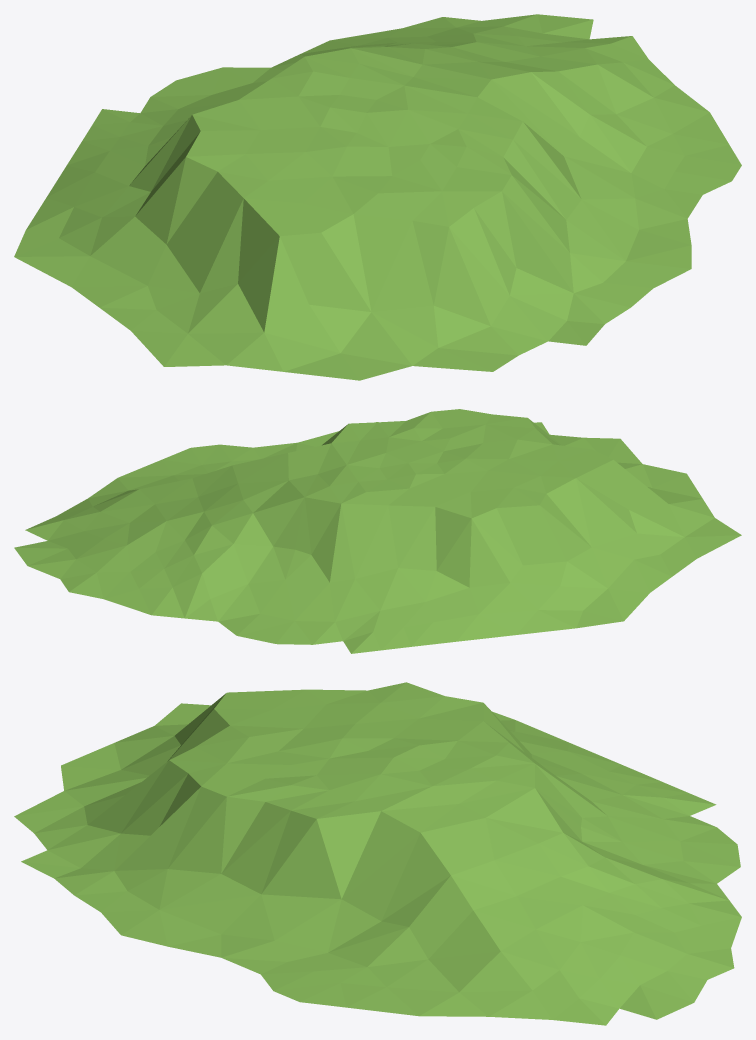
File: MT_Mountain_L_c_14_LOD.fbx
3 views of the same model, one above another, from view 1: azimuth 30°, elevation 25°; view 2: azimuth 150°, elevation 25°; view 3: azimuth 270°, elevation 25° (orthographic). The views are drawn at different scales.
Parts seen in each view (by area): view 1: MT_Mountain_L_c_14_LOD0; view 2: MT_Mountain_L_c_14_LOD0; view 3: MT_Mountain_L_c_14_LOD0.
Boxes of the visible parts, x1,y1,x2,y2 form: MT_Mountain_L_c_14_LOD0: (14, 14, 741, 380); MT_Mountain_L_c_14_LOD0: (14, 409, 741, 653); MT_Mountain_L_c_14_LOD0: (14, 682, 741, 1025).
Size of what is drawn, in the model's own units: 4461 by 616 by 4253.
